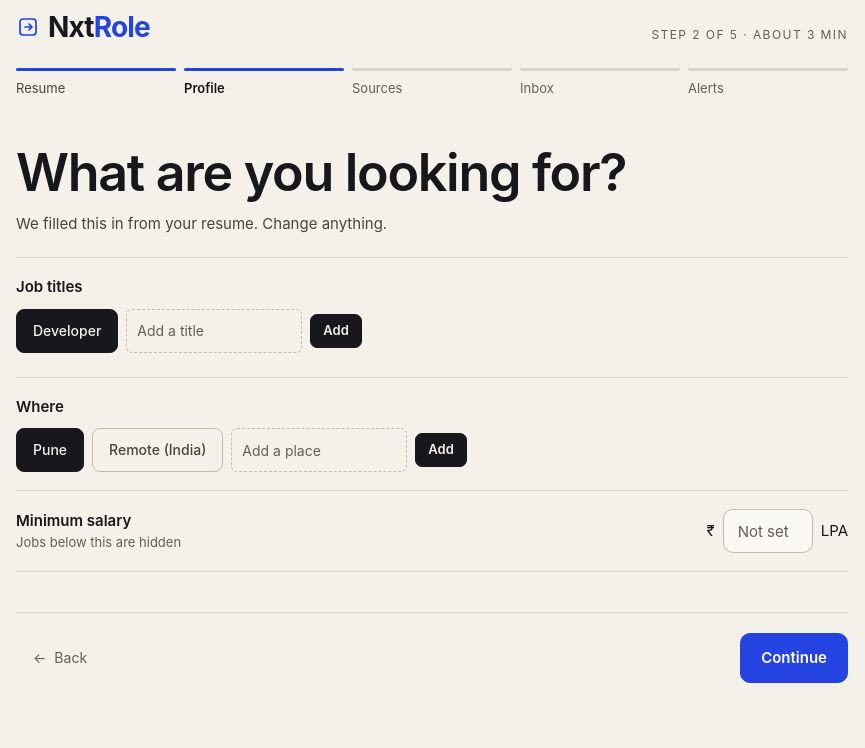
Test: onboarding step 2 with the API › keeps the owner here when the salary cannot be read
Expected: the button "Developer" is shown, [16, 308, 118, 352]
Type "lots" into the field labelled "Minimum salary Jobs below this are hidden". click: (768, 531)
box: [723, 509, 813, 553]
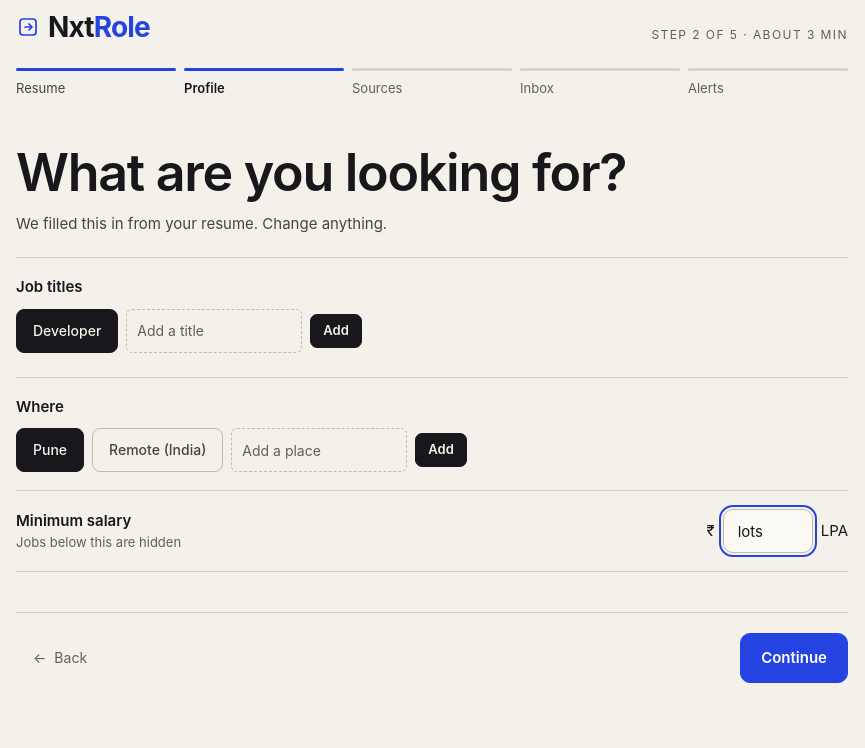
Click the button "Continue". click: (794, 658)
box: [740, 633, 848, 683]
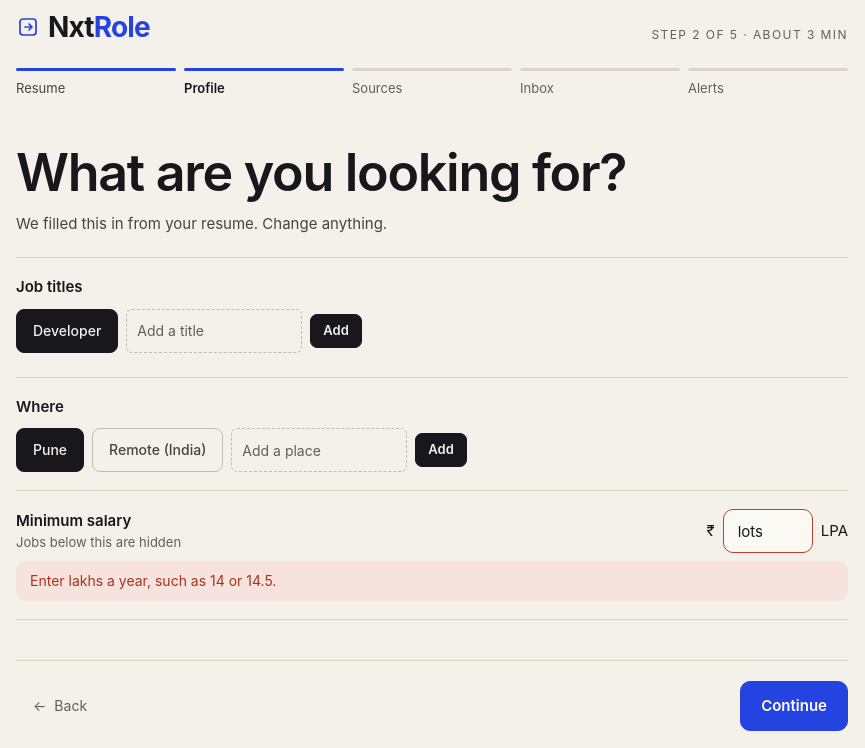
Expected: the message shows "Enter lakhs a year", [30, 572, 276, 589]
